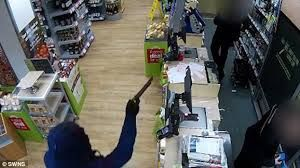gun: (119, 68, 158, 123)
